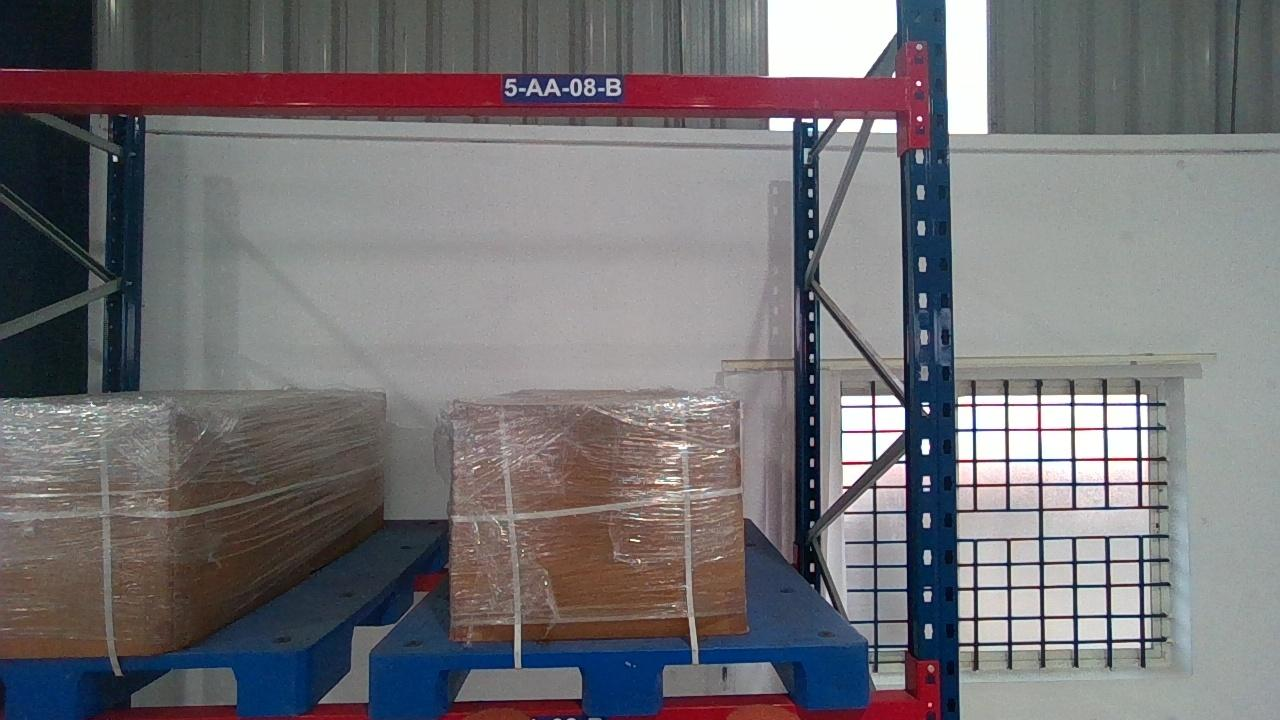h_rack: (1, 66, 906, 110), (1, 692, 927, 719)
small_pallet: (367, 645, 879, 716), (1, 653, 311, 717)
